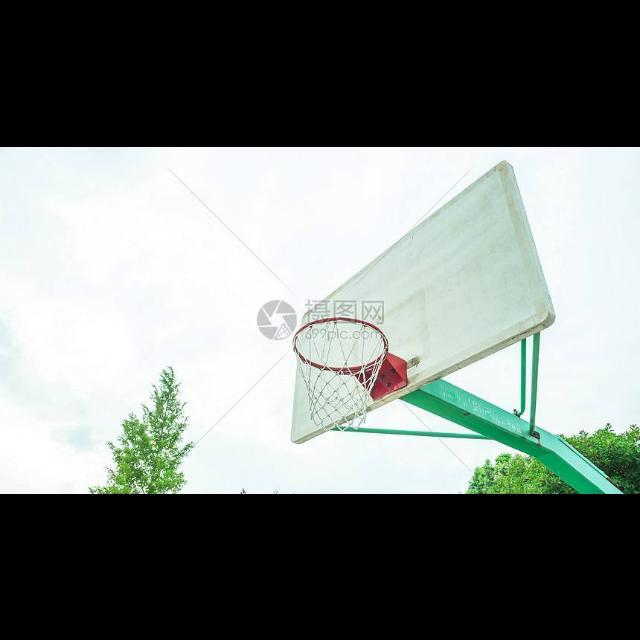rim: (292, 316, 388, 428)
